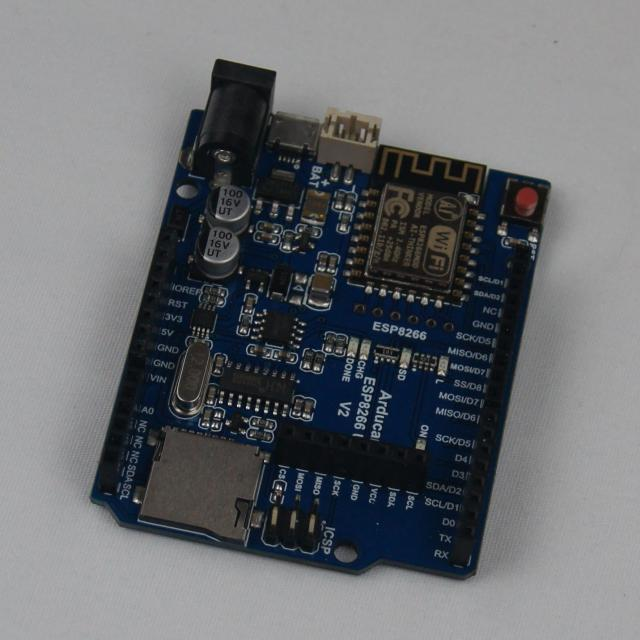Arduino Uno Camera Shield: (93, 61, 550, 578)
